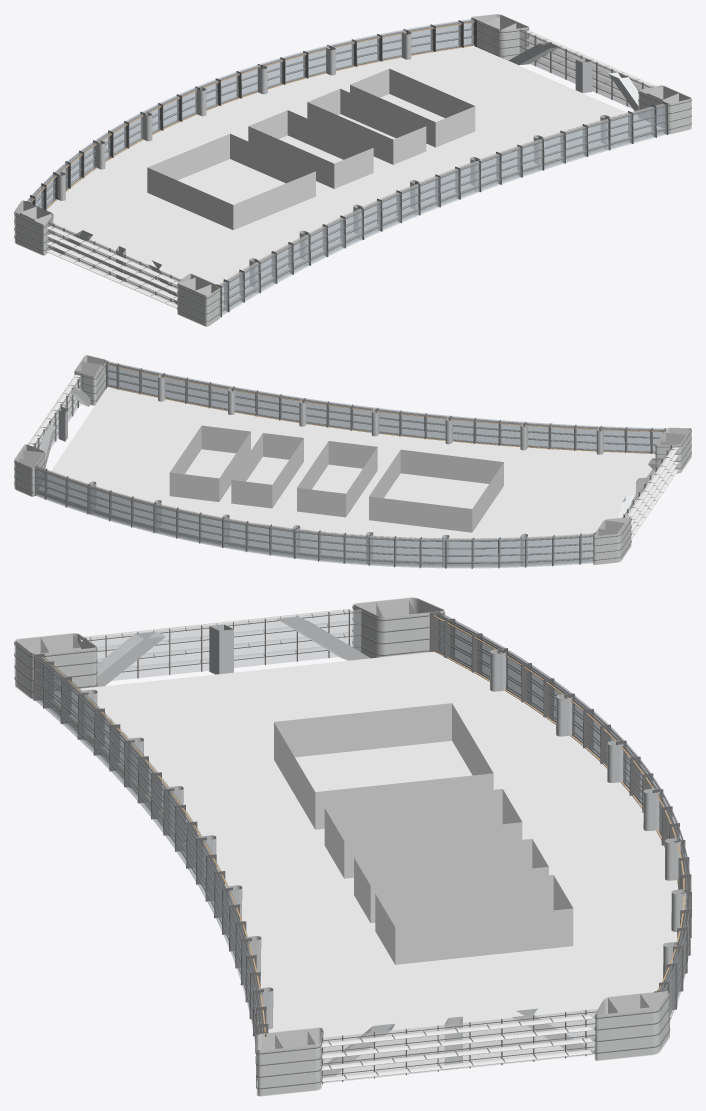
The picture shows the model from 3 angles, top to bottom: view 1: azimuth 30°, elevation 25°; view 2: azimuth 150°, elevation 25°; view 3: azimuth 270°, elevation 25°; orthographic projection. The views are drawn at different scales.
Parts seen in each view (by area): view 1: floor.011; view 2: floor.011; view 3: floor.011.
Part boxes in pixels (box(x1,y1,x2,y2)): floor.011: box(14, 14, 691, 326); floor.011: box(14, 355, 691, 568); floor.011: box(14, 597, 691, 1096).
Size of the model in its own units: 81.77 by 3.83 by 51.59.
Materials: 13 (1 with a texture image).
